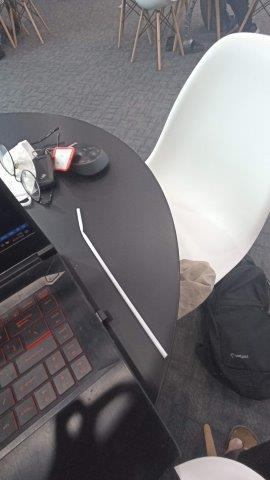sedotan: (77, 208, 168, 358)
